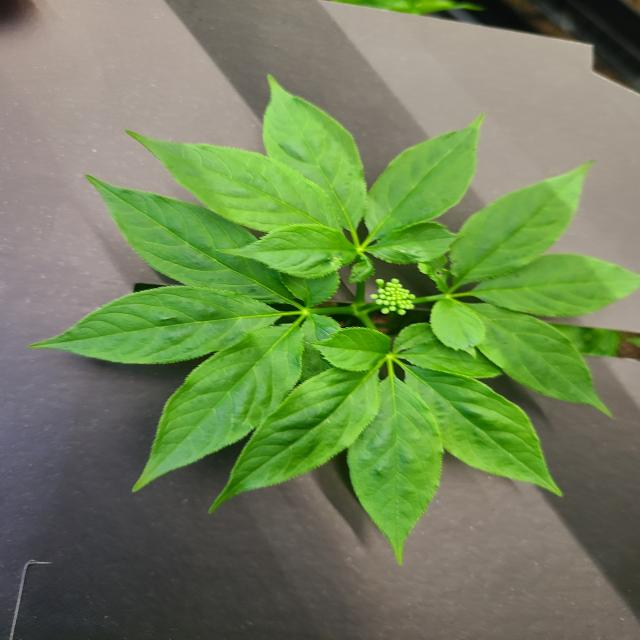plant: (31, 69, 620, 548)
